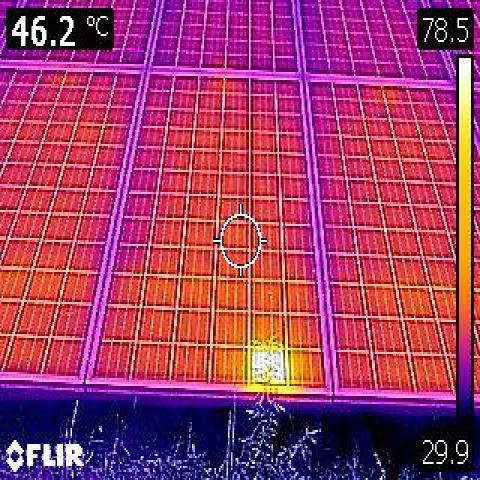fault: (253, 349, 285, 384)
